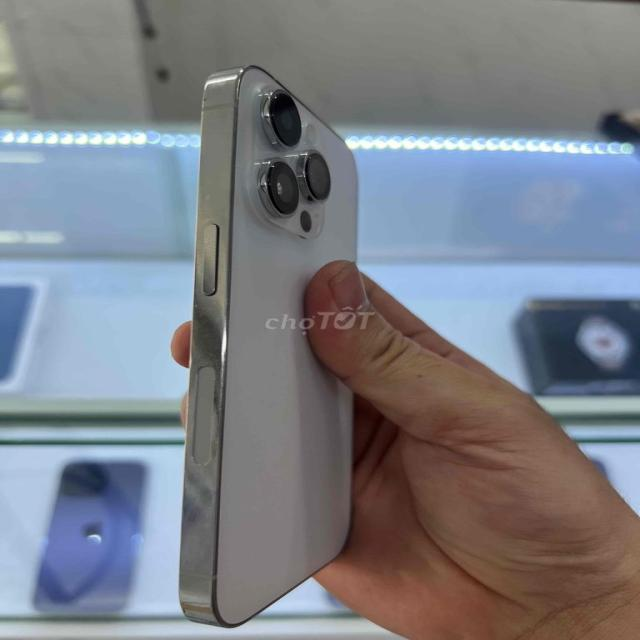gen_14: (169, 57, 373, 629)
